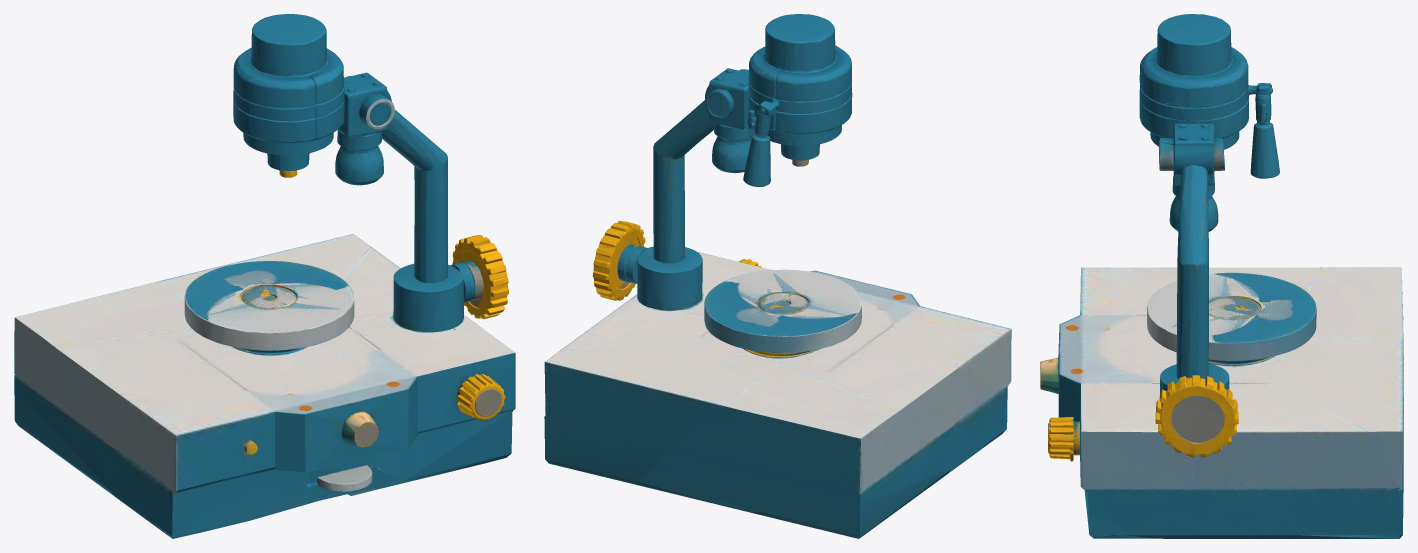
Rendered from inspection-microscope.gltf.
3 views of the same model, side by side, from view 1: azimuth 30°, elevation 25°; view 2: azimuth 150°, elevation 25°; view 3: azimuth 270°, elevation 25° (orthographic). The views are drawn at different scales.
Bounding box in the file's own units: 1.71 × 1.9 × 1.46.
1 material, 1 textured.
